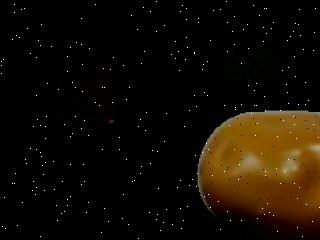Potato: (195, 108, 320, 240)
